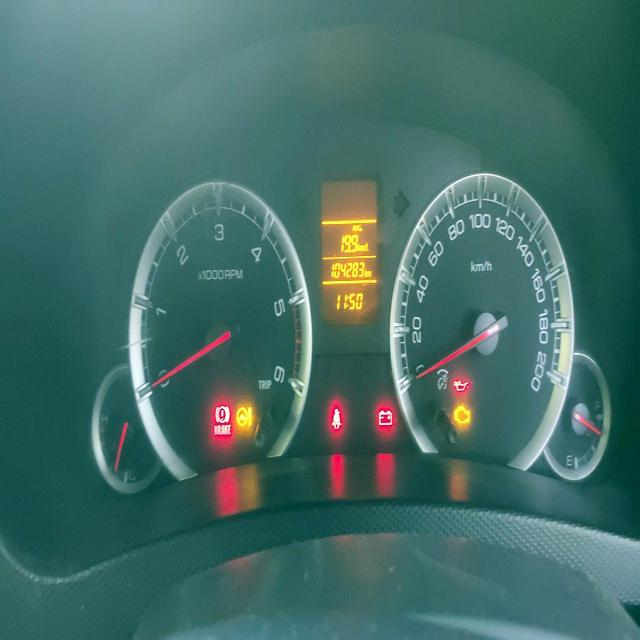odometer: (330, 256, 366, 280)
